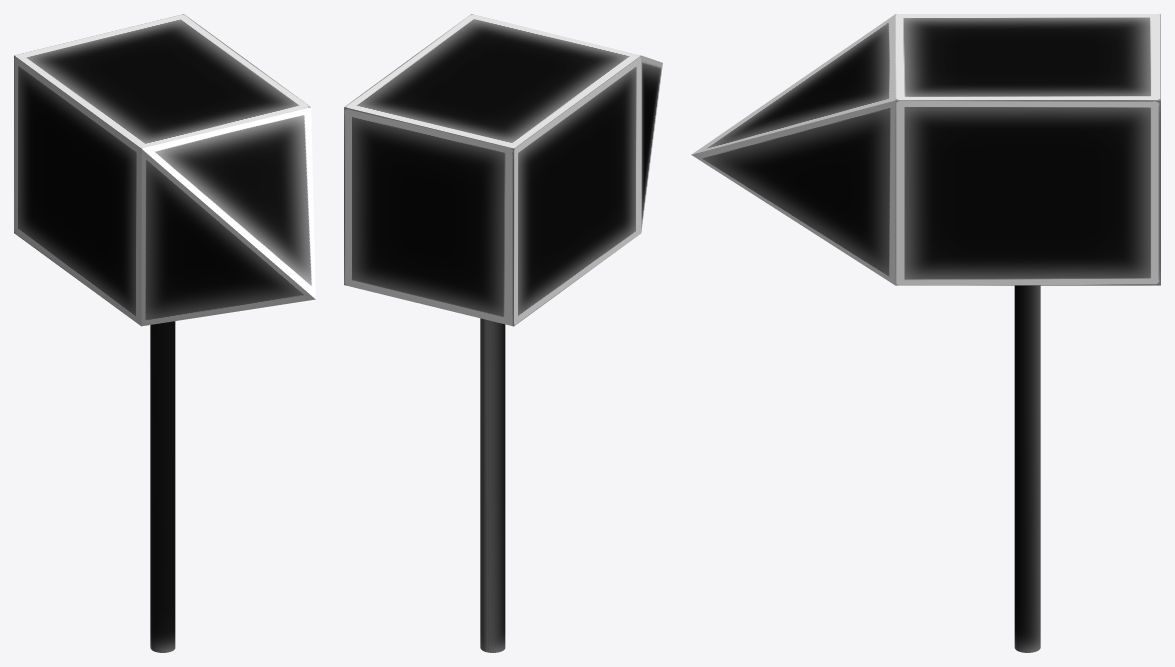
The model's file is weapon.obj.
3 renders of one model, left to right at view 1: azimuth 30°, elevation 25°; view 2: azimuth 150°, elevation 25°; view 3: azimuth 270°, elevation 25°, orthographic. The views are drawn at different scales.
Visible parts, largest first — view 1: weapon; view 2: weapon; view 3: weapon.
Boxes of the visible parts, box(x1,y1,x2,y2) form: weapon: box(14, 14, 315, 652); weapon: box(344, 14, 662, 652); weapon: box(691, 14, 1160, 652).
Size of the model in its own units: 1.16 by 3.68 by 2.66.
